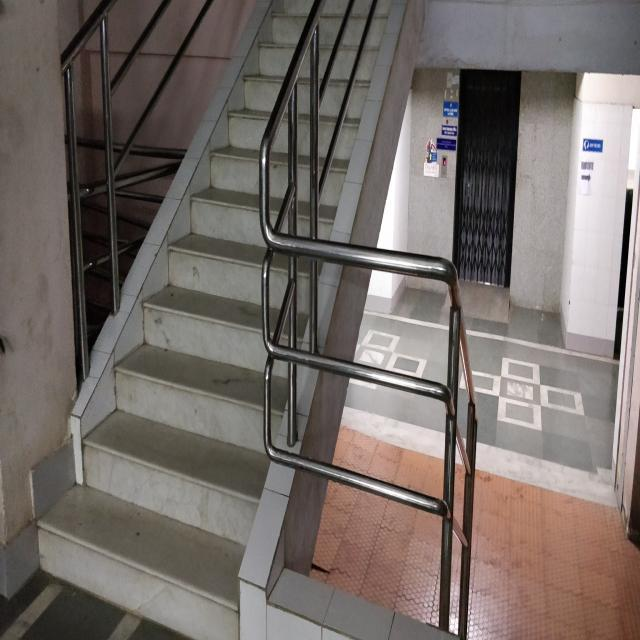stairs: (32, 0, 409, 638)
